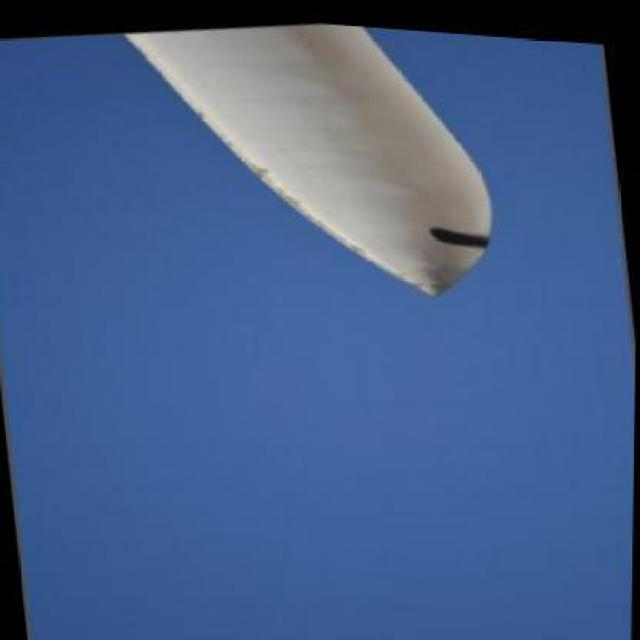Burn Mark: (426, 209, 491, 245)
